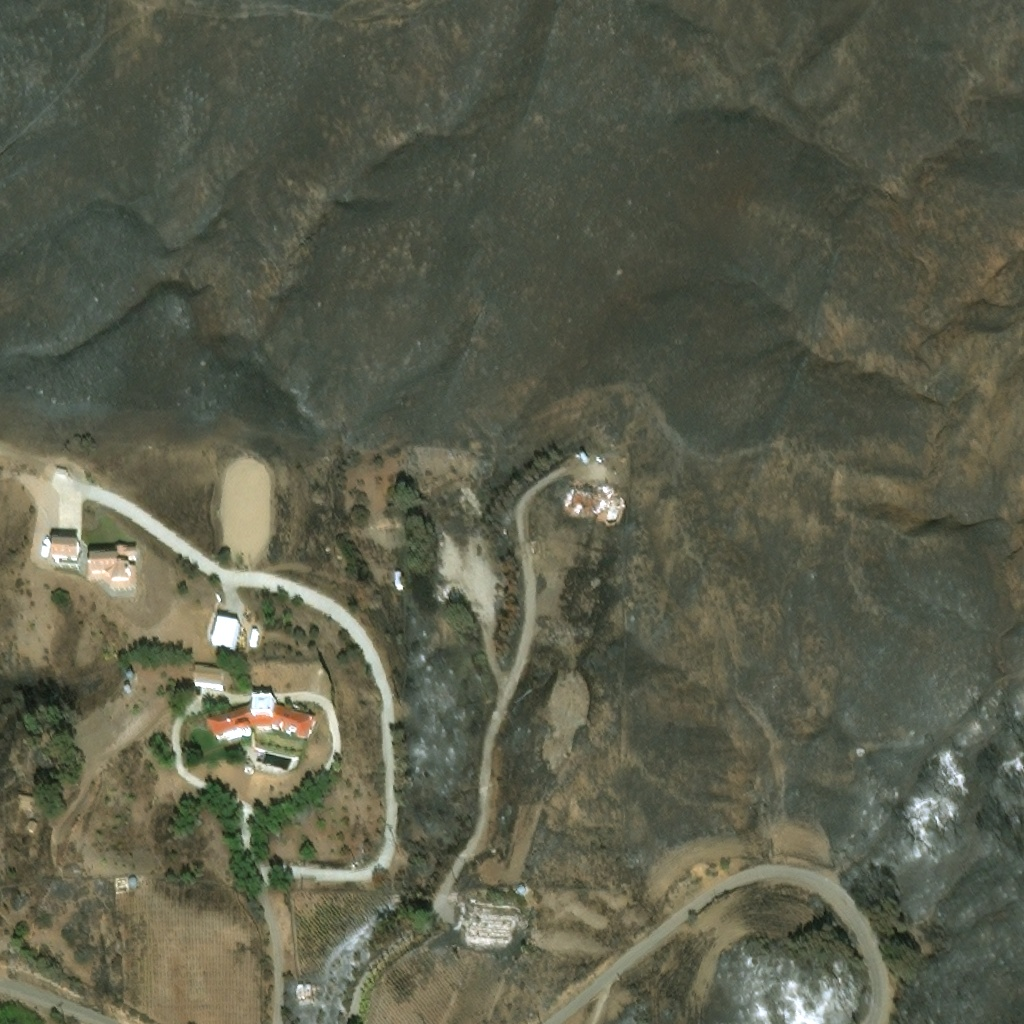0 no-damage: (206, 688, 323, 744), (86, 546, 136, 594), (209, 612, 236, 645), (50, 537, 79, 561), (193, 664, 222, 685), (15, 791, 35, 805), (246, 626, 257, 643), (24, 817, 35, 828), (394, 572, 402, 586), (130, 881, 139, 891), (127, 672, 136, 682), (125, 686, 131, 694)
3 destroyed: (558, 477, 626, 526), (450, 902, 514, 950), (293, 977, 324, 997), (443, 587, 452, 596)
